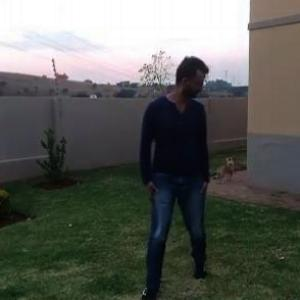follow: (130, 48, 215, 299)
